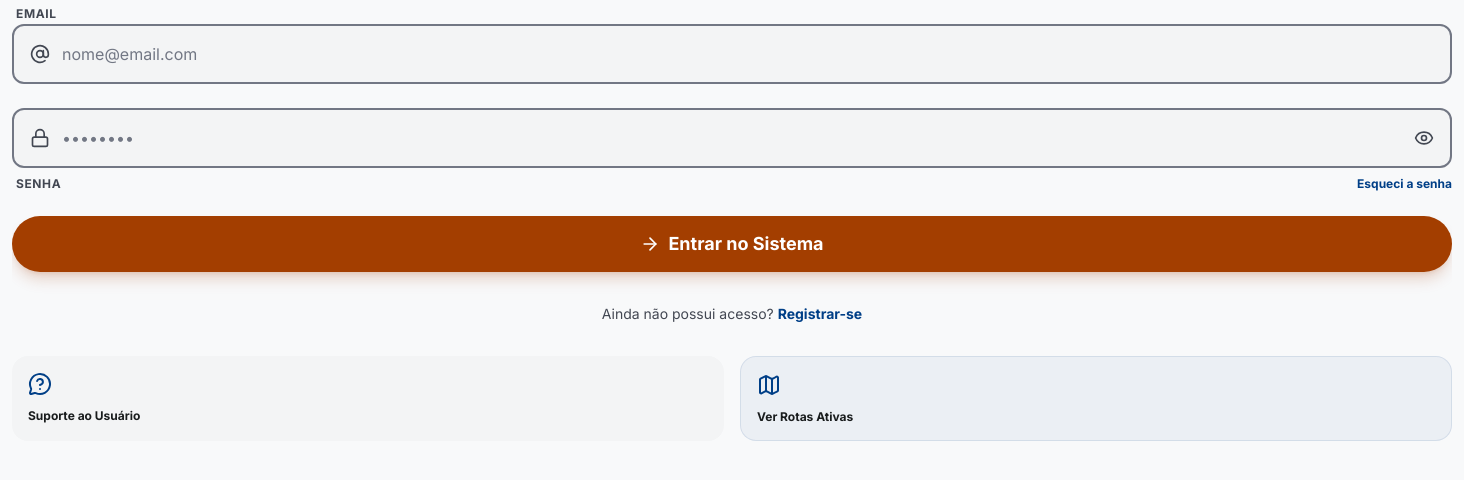
Test: LoginForm › deve validar senha antes de enviar quando tamanho e invalido
Type "joao@test.com" into the field with placeholder "nome@email.com" at (732,54), box 14,26 -> 1450,82
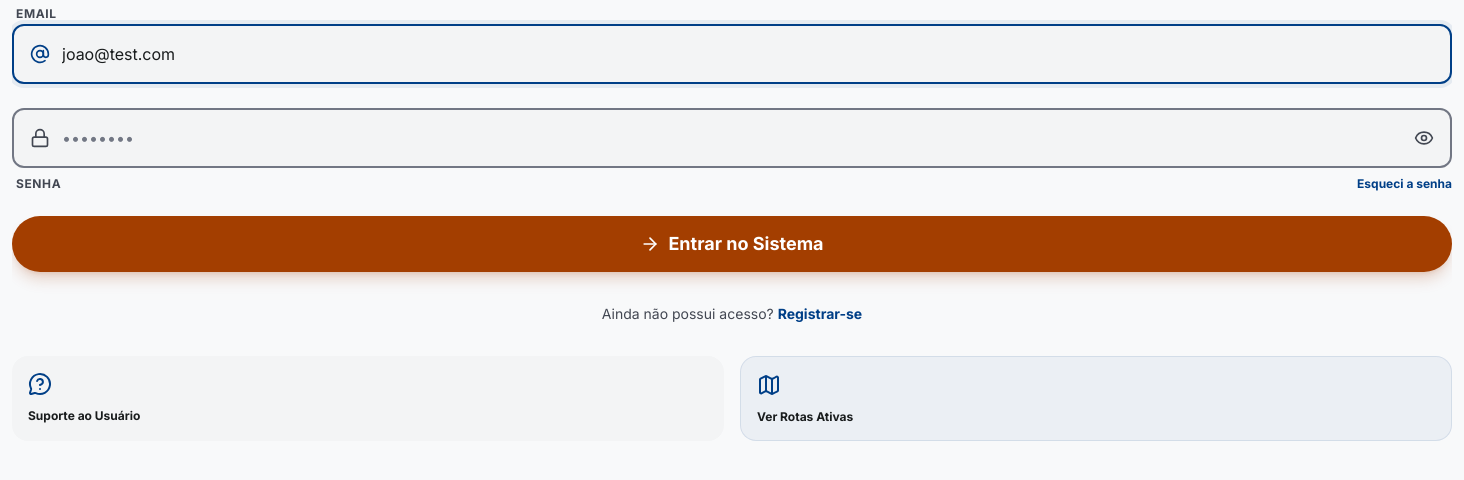
Type "123" into the password field with placeholder "••••••••" at (732,138), box 14,110 -> 1450,166
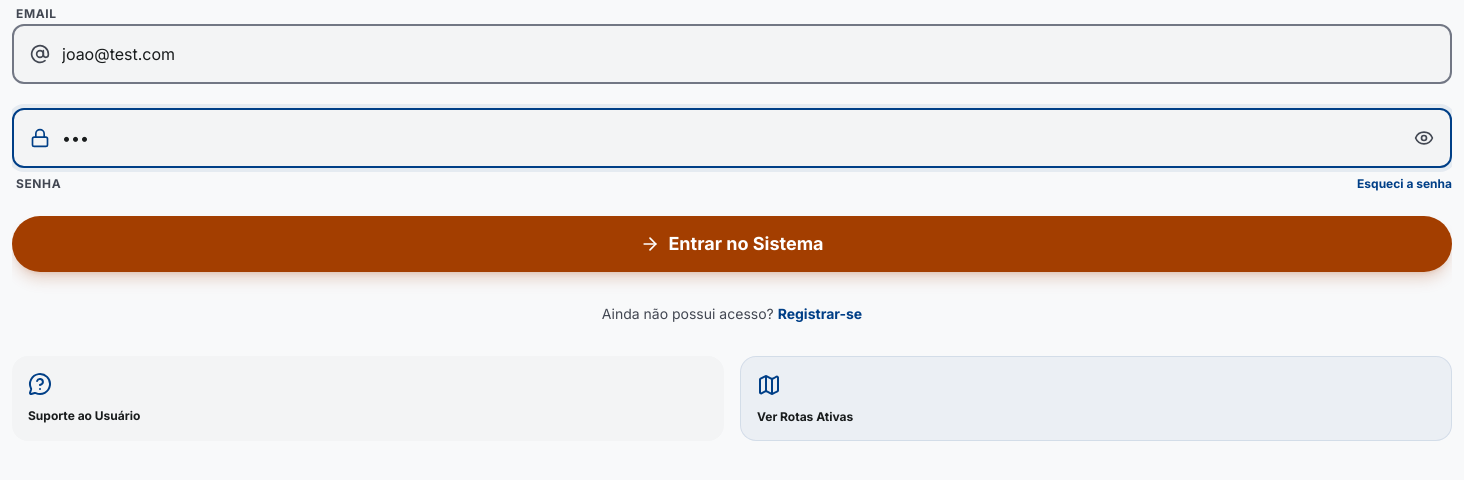
Click the button "Entrar no Sistema" at (732,244), box 12,216 -> 1452,272
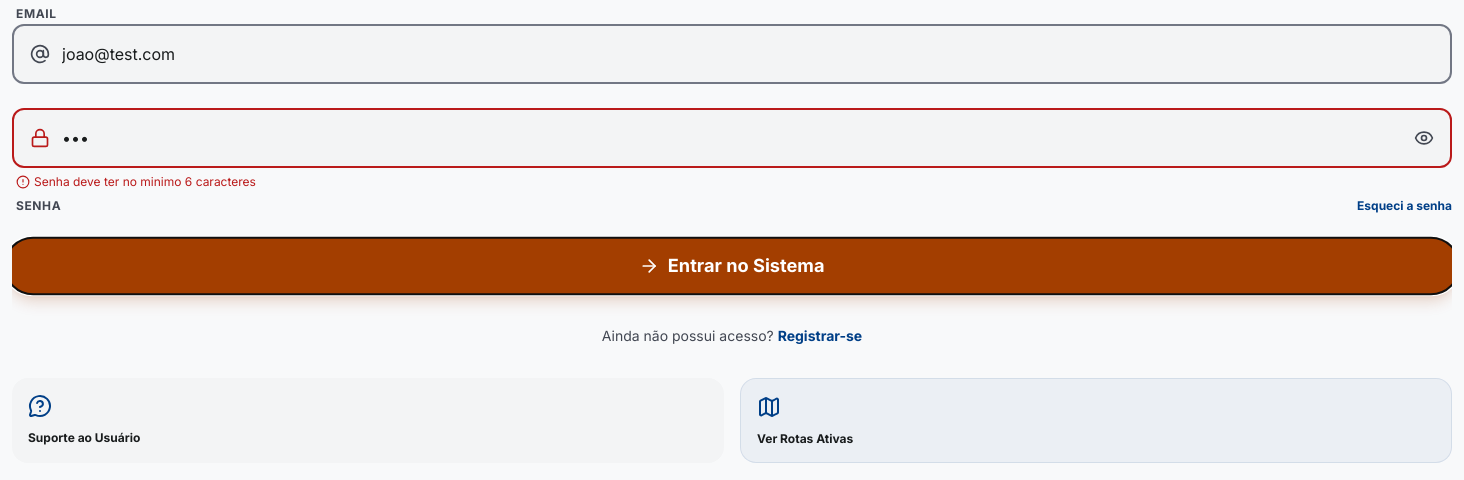
Expected: the text "Senha deve ter no minimo 6 caracteres" is shown, 16,174 -> 256,189
